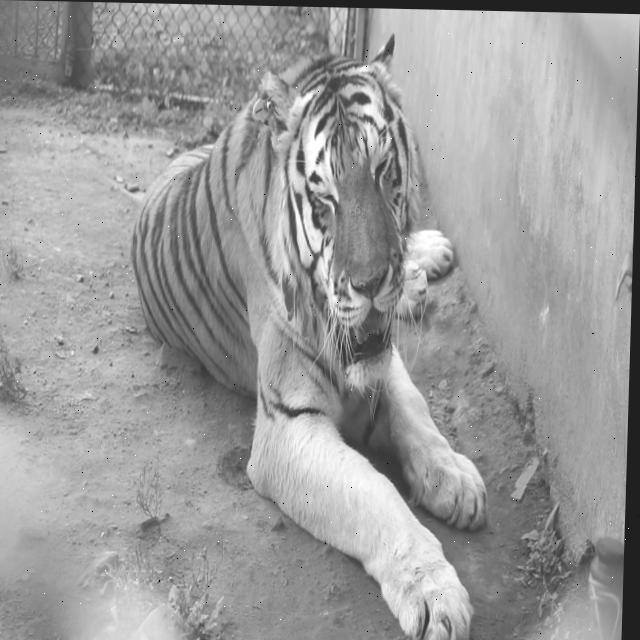Tiger: (118, 27, 503, 640)
